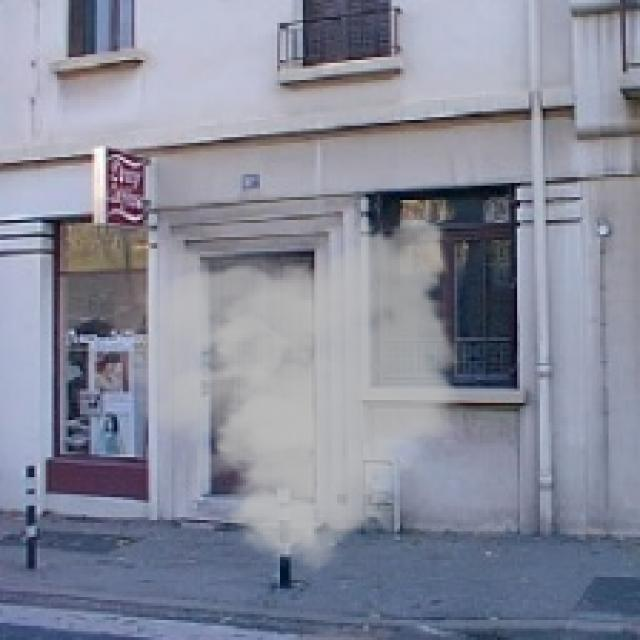Smoke: (114, 194, 472, 583)
